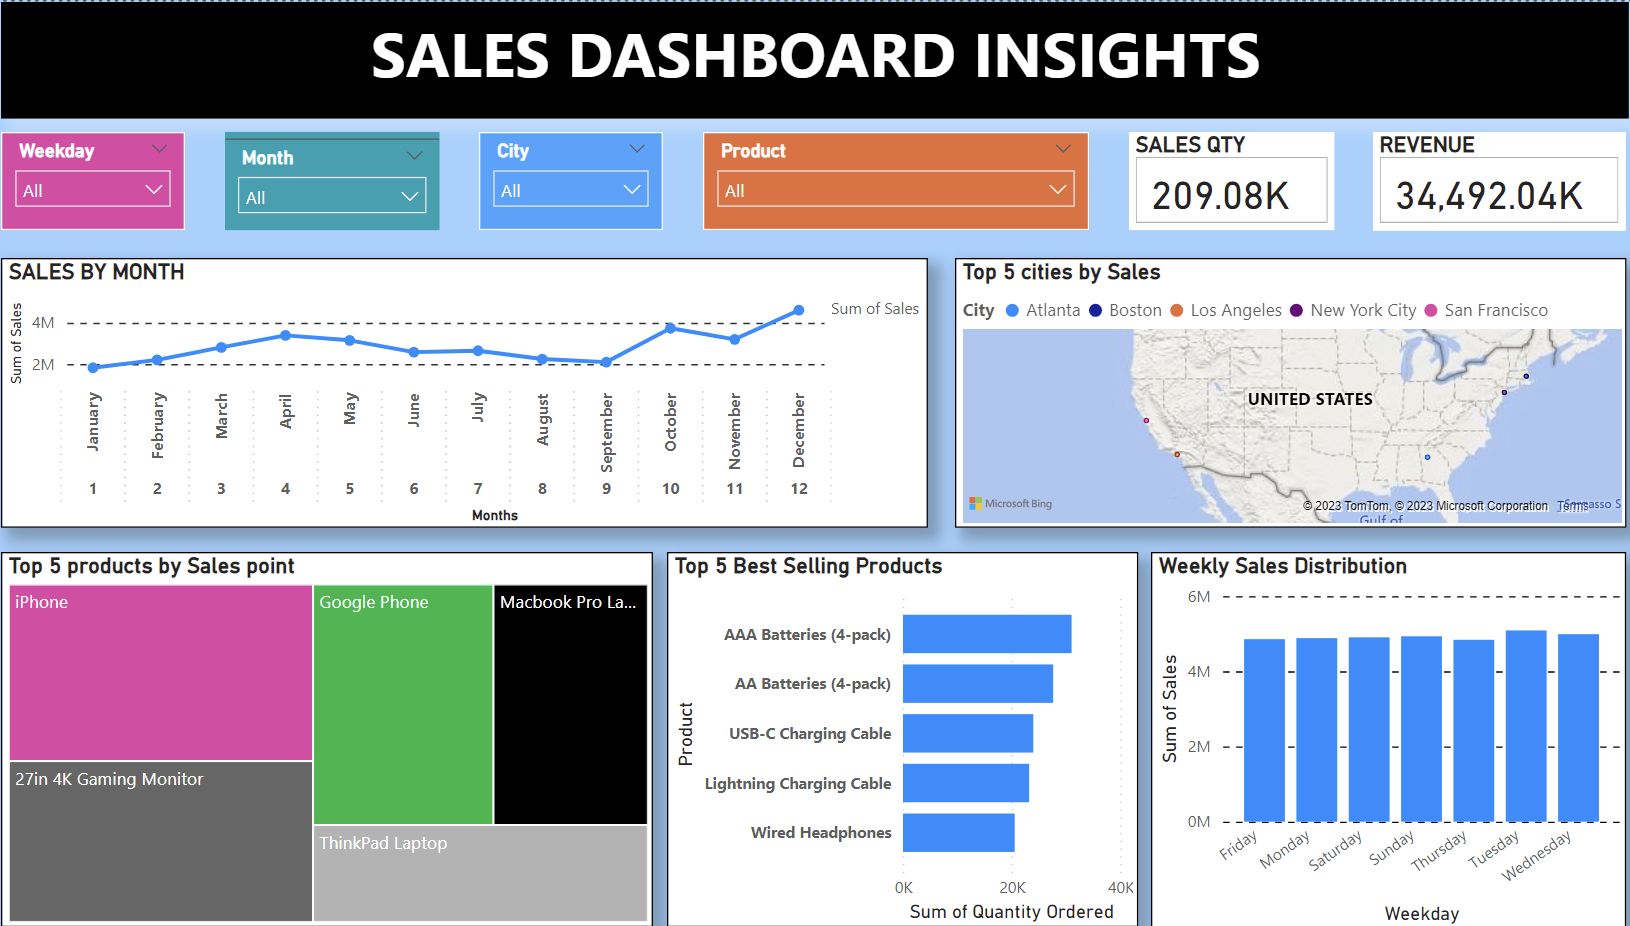

The page's visual inventory and layout, read from the dashboard file:
{"tool":"powerbi","page":{"name":"Page 1","canvas":[1280,720],"ordinal":0},"visuals":[{"type":"lineChart","title":"SALES BY MONTH","fields":{"Y":["Sum(Sales Data.Sales)"],"Category":["Sales Data.Month","Sales Data.Month Name"]},"box":[13.7,196.5,713.1,207.5],"z":0},{"type":"treemap","title":"Top 5 products by Sales point","fields":{"Group":["Sales Data.Product"],"Values":["CountNonNull(Sales Data.Sales)"]},"box":[13.7,423.2,501.5,288.5],"z":1000},{"type":"barChart","title":"Top 5 Best Selling Products","fields":{"Category":["Sales Data.Product"],"Y":["Sum(Sales Data.Quantity Ordered)"]},"box":[525.6,423.2,362.7,288.5],"z":2000},{"type":"map","title":"Top 5 cities by Sales","fields":{"Category":["Sales Data.City"],"Series":["Sales Data.City"]},"box":[747.5,196.5,516.6,207.5],"z":3000},{"type":"columnChart","title":"Weekly Sales Distribution","fields":{"Y":["Sum(Sales Data.Sales)"],"Category":["Sales Data.Weekday"]},"box":[898.6,423.2,365.5,289.9],"z":4000},{"type":"textbox","box":[13.7,0,1251.8,89.3],"z":12000},{"type":"slicer","fields":{"Values":["Sales Data.Order Date.Variation.Date Hierarchy.Month"]},"box":[185.8,100.3,164.9,75.6],"z":12500},{"type":"slicer","fields":{"Values":["Sales Data.Weekday"]},"box":[13.7,100.3,141.5,75.6],"z":13000},{"type":"slicer","fields":{"Values":["Sales Data.City"]},"box":[381.3,100.3,141.5,75.6],"z":13500},{"type":"slicer","fields":{"Values":["Sales Data.Product"]},"box":[553.4,100.3,296.8,75.6],"z":14000},{"type":"cardVisual","title":"REVENUE","fields":{"Data":["Sum(Sales Data.Sales)"]},"box":[1069.4,100.3,194.4,75.9],"z":14500},{"type":"cardVisual","title":"SALES QTY","fields":{"Data":["Sum(Sales Data.Quantity Ordered)"]},"box":[880.8,100.3,158,75.6],"z":15000}]}

Visuals, with their boxes in screenshot pixels (x1, y1, x2, y2), scaled from the page's 1280x720 canvas onto the 1630x926 screenshot:
"SALES BY MONTH" lineChart: 17,253,926,520
"Top 5 products by Sales point" treemap: 17,544,656,915
"Top 5 Best Selling Products" barChart: 669,544,1131,915
"Top 5 cities by Sales" map: 952,253,1610,520
"Weekly Sales Distribution" columnChart: 1144,544,1610,917
textbox: 17,0,1612,115
slicer - Sales Data.Order Date.Variation.Date Hierarchy.Month: 237,129,447,226
slicer - Sales Data.Weekday: 17,129,198,226
slicer - Sales Data.City: 486,129,666,226
slicer - Sales Data.Product: 705,129,1083,226
"REVENUE" cardVisual: 1362,129,1609,227
"SALES QTY" cardVisual: 1122,129,1323,226
